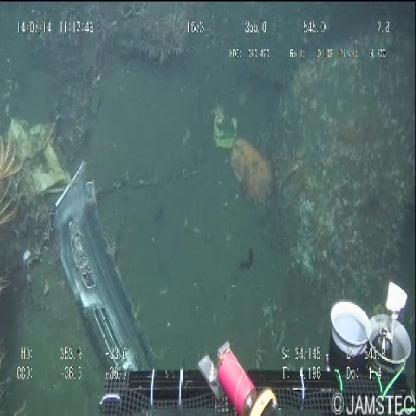Rov: (86, 274, 416, 411)
Rác: (43, 162, 177, 359)
